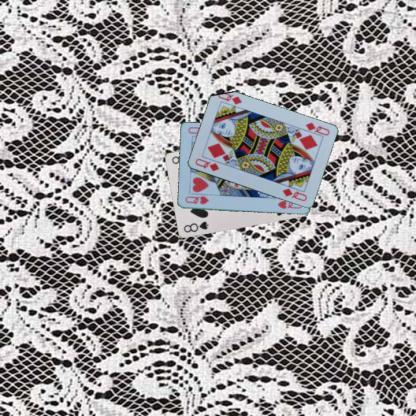8s: (181, 219, 210, 234)
Qd: (300, 120, 330, 138), (193, 156, 220, 173)
Qh: (182, 194, 210, 206)
